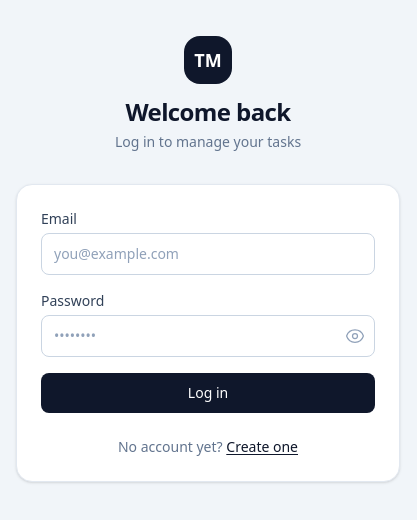
it: LoginPage › requires an email and password
Click the button "Log in". click: (208, 393)
box: top-left (41, 373), bottom-right (375, 413)
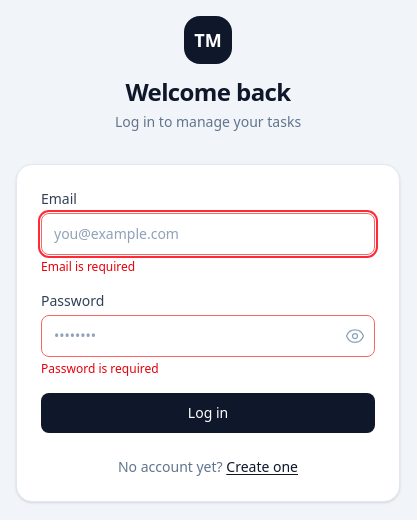
Now the text "Email is required" is shown, box top-left (41, 258), bottom-right (135, 275)
Now the text "Password is required" is shown, box top-left (41, 360), bottom-right (159, 377)
